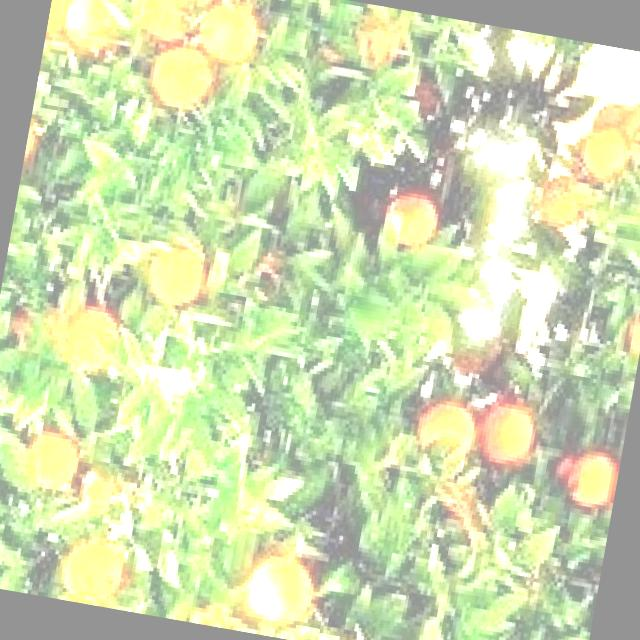Orange: (401, 384, 492, 496), (226, 546, 318, 639), (460, 386, 551, 478), (50, 0, 147, 83), (126, 237, 216, 322), (136, 38, 224, 122), (41, 299, 125, 386), (3, 422, 90, 502), (332, 7, 403, 96), (364, 190, 443, 269), (56, 530, 132, 608), (180, 0, 266, 68), (520, 170, 594, 248), (570, 122, 634, 198), (54, 458, 119, 527), (552, 449, 617, 518), (127, 0, 196, 52), (605, 88, 640, 181), (599, 308, 640, 369)
